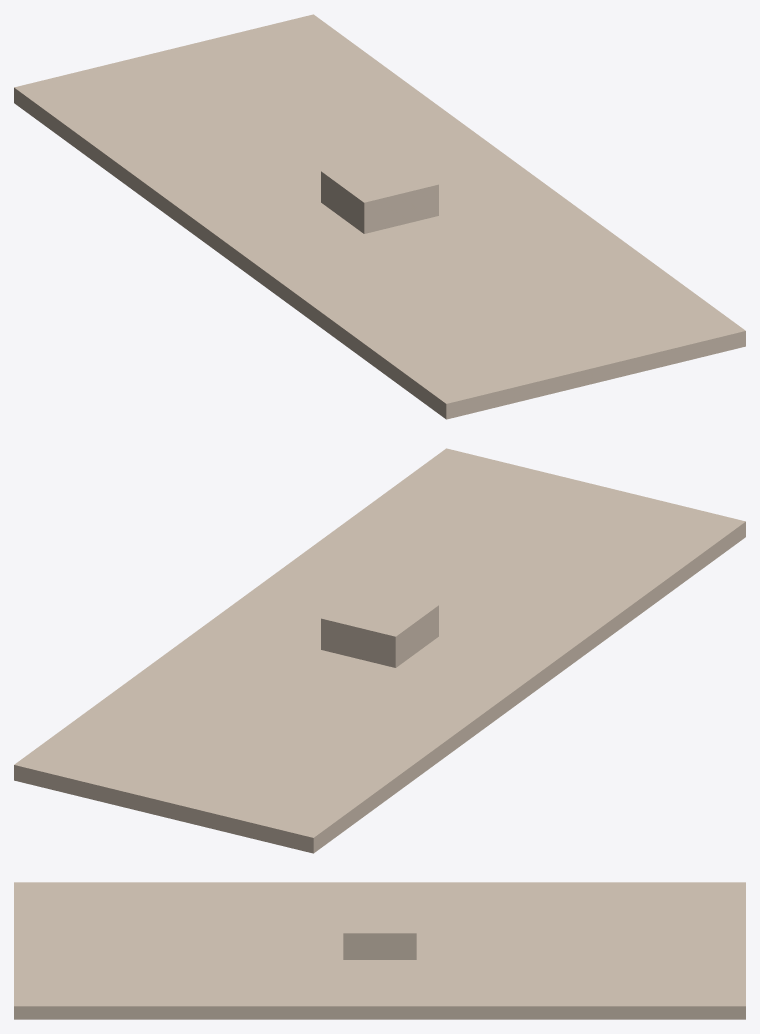
File: ancient_temple_tile.glb
3 views of the same model, one above another, from view 1: azimuth 30°, elevation 25°; view 2: azimuth 150°, elevation 25°; view 3: azimuth 270°, elevation 25° (orthographic). The views are drawn at different scales.
Parts seen in each view (by area): view 1: ancient_temple_tile; view 2: ancient_temple_tile; view 3: ancient_temple_tile.
Part boxes in pixels (x1=…): ancient_temple_tile: x1=14, y1=14, x2=745, y2=419; ancient_temple_tile: x1=14, y1=448, x2=745, y2=853; ancient_temple_tile: x1=14, y1=882, x2=745, y2=1019.
Bounding box in the file's own units: 8 × 2 × 20.
